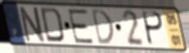2: (121, 9, 146, 47)
D: (39, 6, 66, 44), (90, 7, 116, 46)
E: (67, 8, 96, 45)
N: (19, 6, 48, 45)
P: (142, 10, 165, 48)
